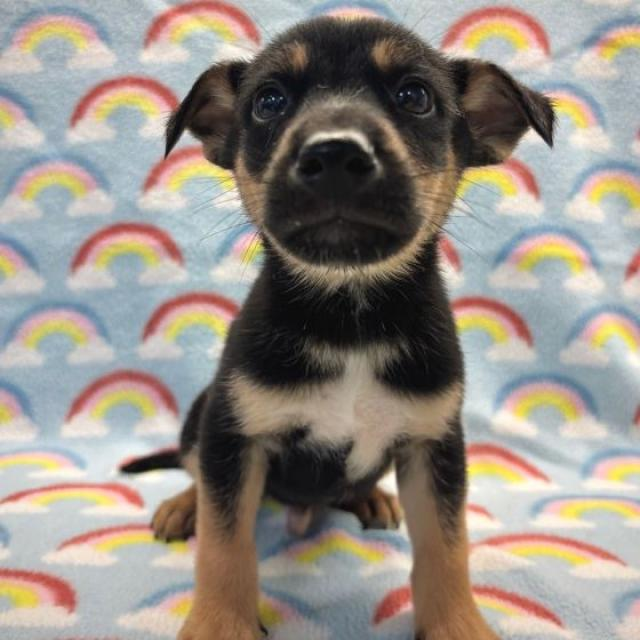siberian_husky_dog: (148, 7, 562, 324)
